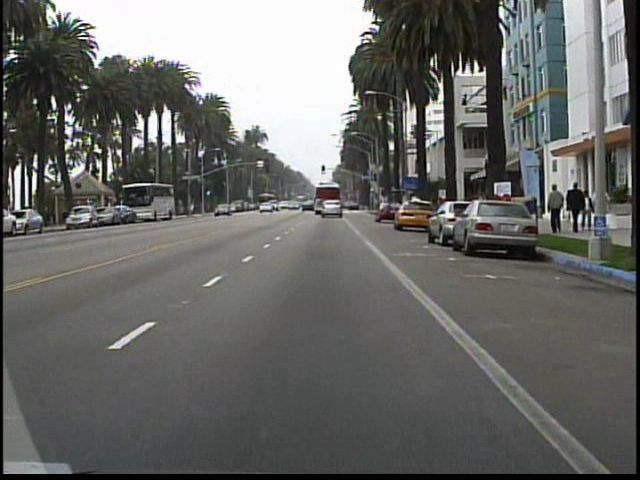person: (564, 177, 586, 235), (543, 183, 565, 237), (594, 181, 612, 232)
